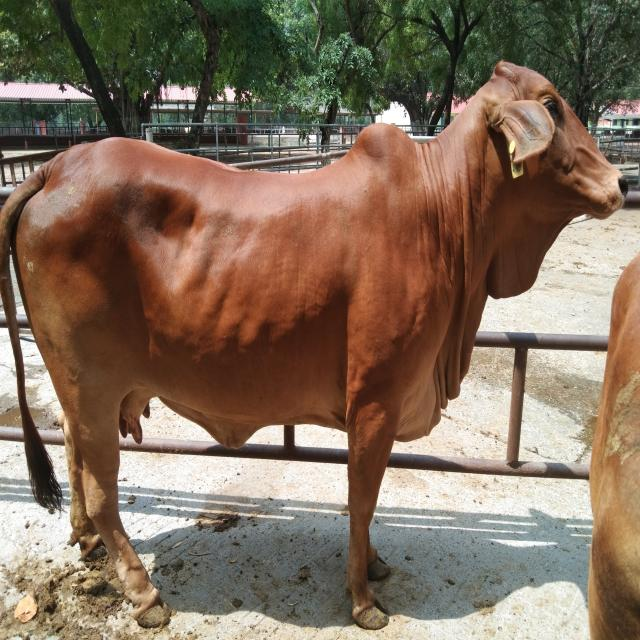1: (338, 120, 426, 162)
Hoof: (351, 602, 389, 630), (136, 599, 171, 629), (367, 556, 390, 581)
